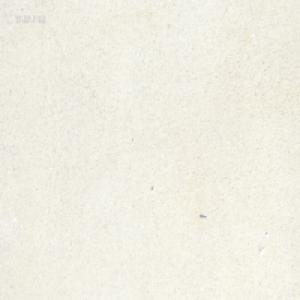Nail: (199, 212, 206, 217)
